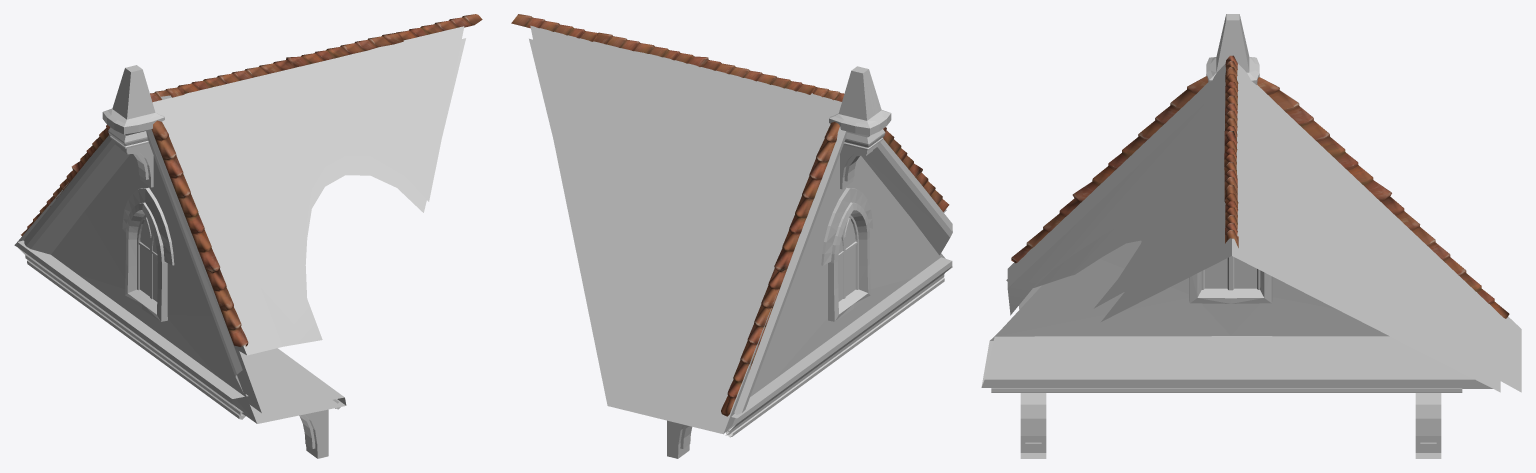
Rendered from SM_AlchemyS_Gate_Roof_Window.fbx.
3 renders of one model, left to right at view 1: azimuth 30°, elevation 25°; view 2: azimuth 150°, elevation 25°; view 3: azimuth 270°, elevation 25°, orthographic. The views are drawn at different scales.
Visible parts, largest first — view 1: SM_AlchemyS_Gate_Roof_Window_LOD0; view 2: SM_AlchemyS_Gate_Roof_Window_LOD0; view 3: SM_AlchemyS_Gate_Roof_Window_LOD0.
Part boxes in pixels (bbox=[...]): SM_AlchemyS_Gate_Roof_Window_LOD0: bbox=[14, 14, 482, 458]; SM_AlchemyS_Gate_Roof_Window_LOD0: bbox=[511, 14, 952, 458]; SM_AlchemyS_Gate_Roof_Window_LOD0: bbox=[981, 14, 1521, 458].
Size of what is drawn, in the model's own units: 8.93 by 7.93 by 10.04.
